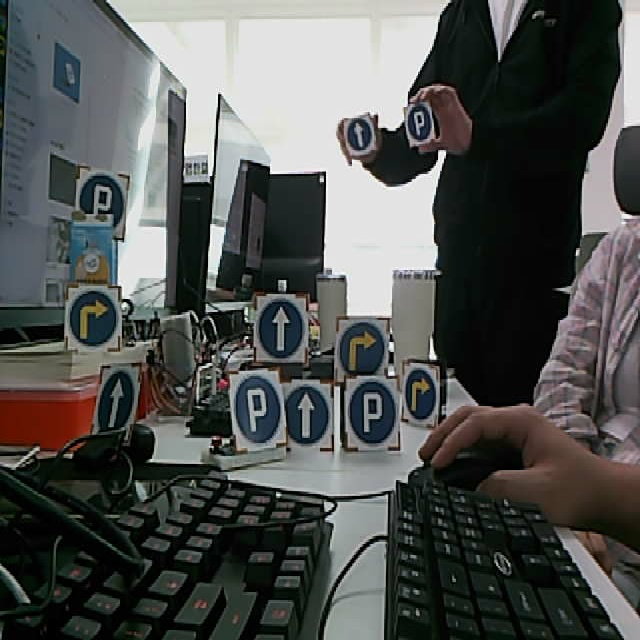parking: (340, 375, 400, 454), (228, 370, 287, 450), (73, 163, 129, 243), (402, 100, 435, 146)
right: (63, 284, 121, 354), (335, 318, 389, 380), (399, 359, 440, 431)
straight: (89, 363, 144, 446), (250, 294, 308, 363), (278, 378, 333, 449), (341, 113, 380, 158)
